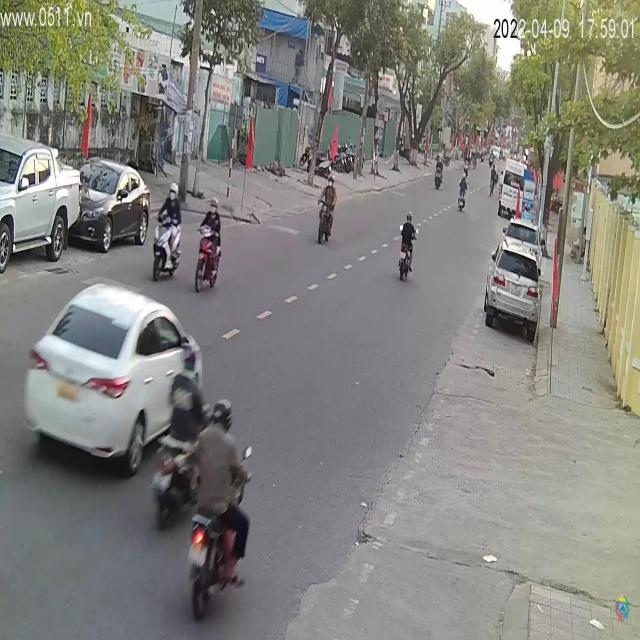car: (26, 281, 207, 478), (1, 134, 81, 277), (69, 158, 153, 255), (485, 233, 544, 345)
motorcycle: (188, 505, 247, 622), (151, 416, 207, 529), (195, 226, 222, 296), (152, 230, 182, 281), (315, 188, 337, 246), (399, 224, 413, 281)
